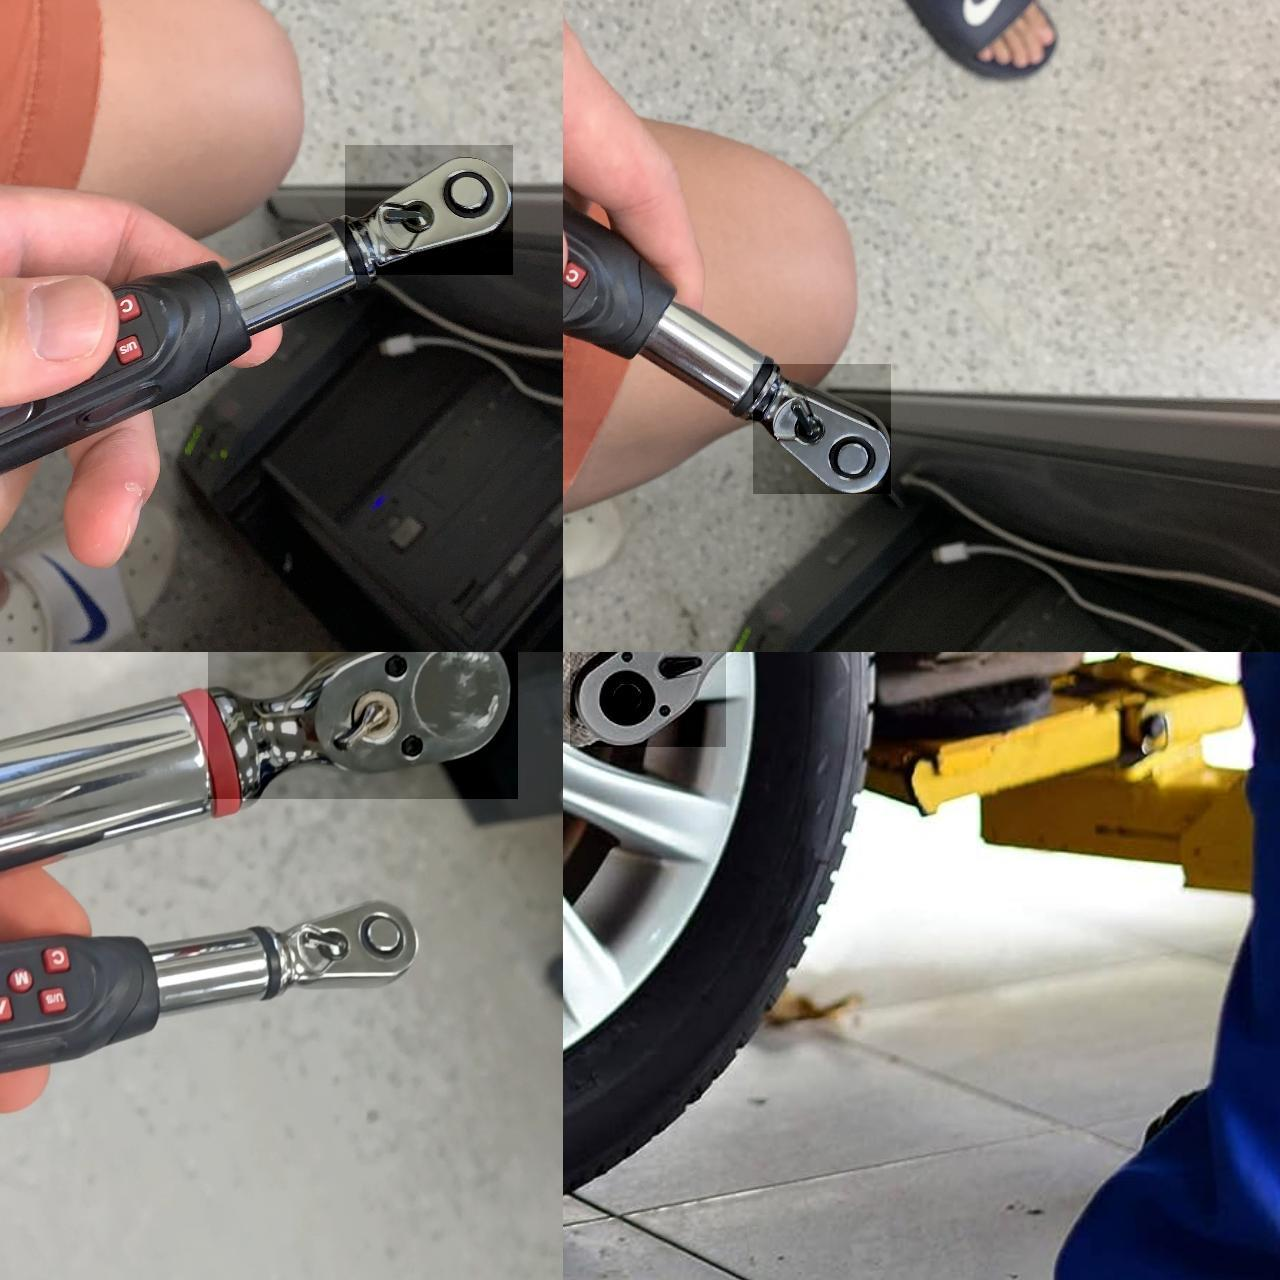Tool: (207, 652, 517, 798), (343, 144, 512, 274), (753, 363, 890, 493), (568, 652, 726, 745), (268, 888, 415, 985)
